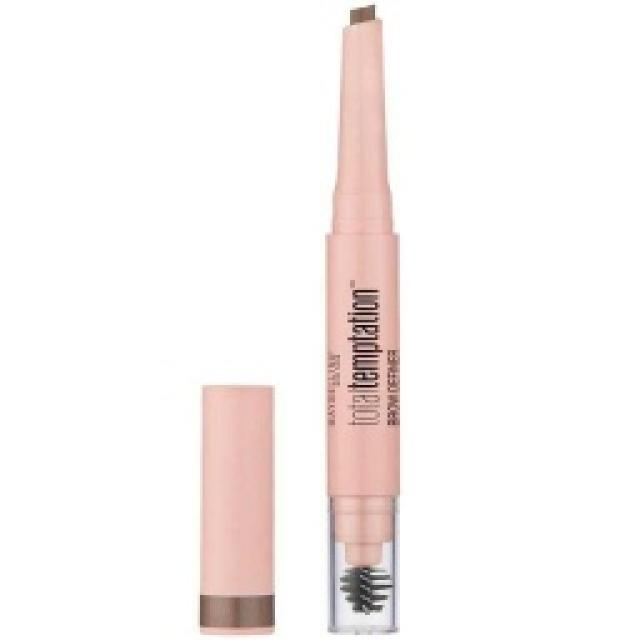pencil: (320, 0, 402, 635), (195, 380, 277, 635)
